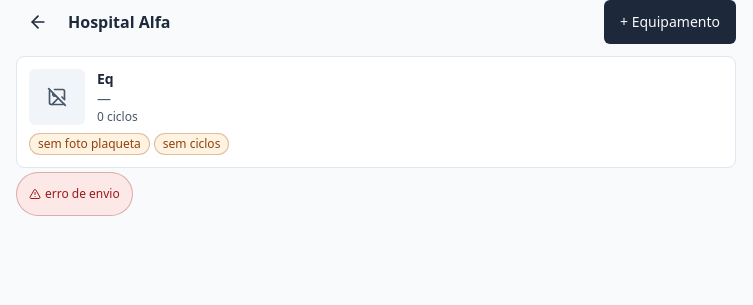
Test case: EquipListPage › badge de erro vermelho mostra o syncError ao tocar
Expected: the text "Série duplicada" is not shown
Click the button "erro de envio" at [74, 194], box top-left (16, 172), bottom-right (133, 216)
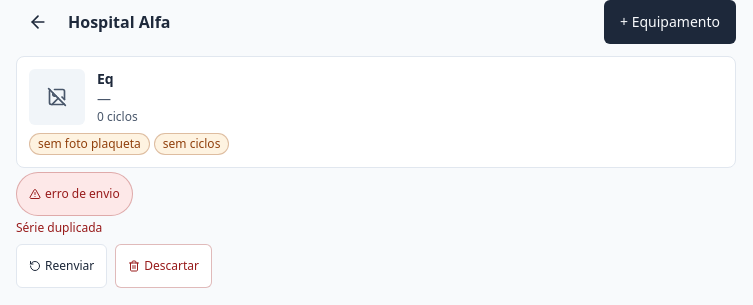
Expected: the text "Série duplicada" is shown, top-left (16, 219), bottom-right (102, 236)
